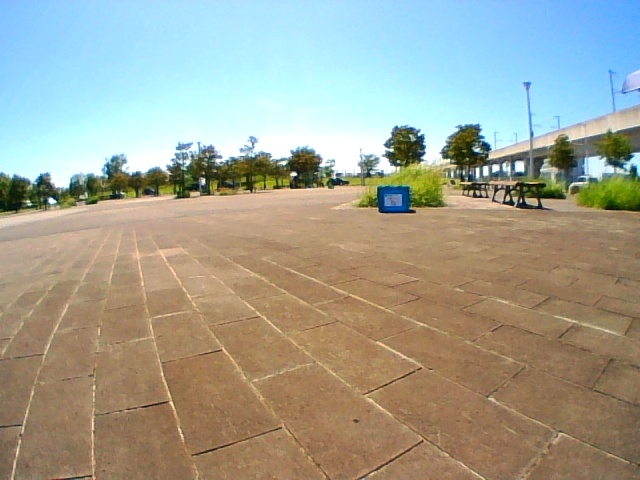blue_box: (378, 187, 410, 212)
tag: (383, 193, 402, 206)
